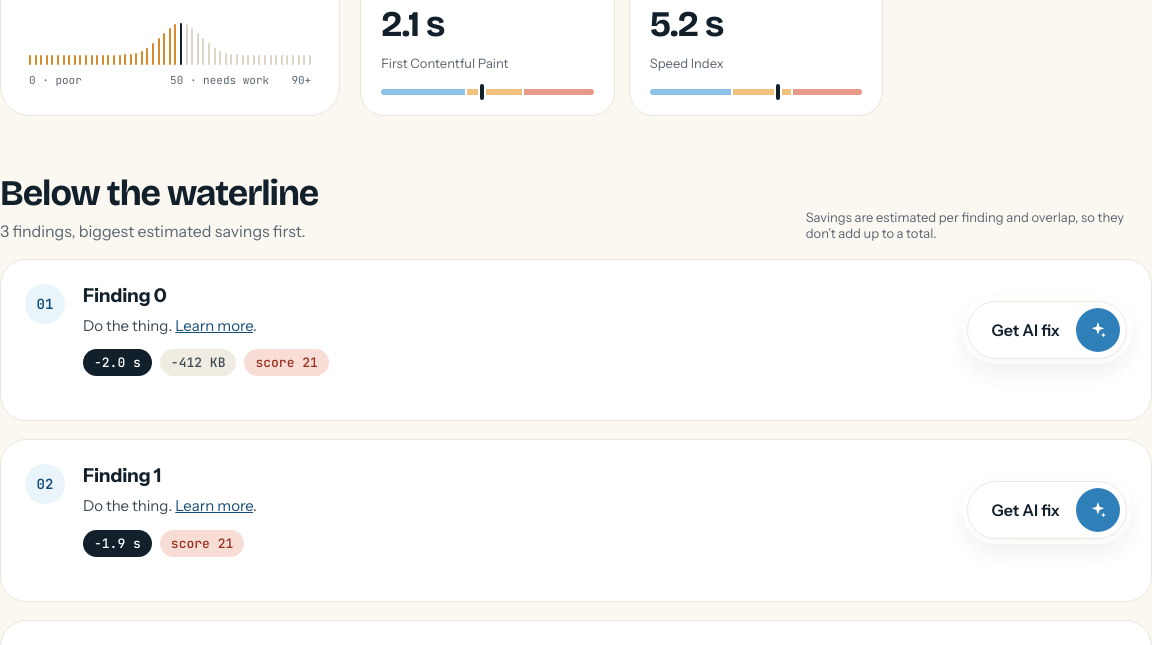
Test case: fix panel polish › shows where the fix goes, with inline code rendered
This screenshot has width=1152, height=645.
(page scrolled)
Click the button "Get AI fix" in the row of "412 KB" at (1047, 330), box [966,301,1127,359]
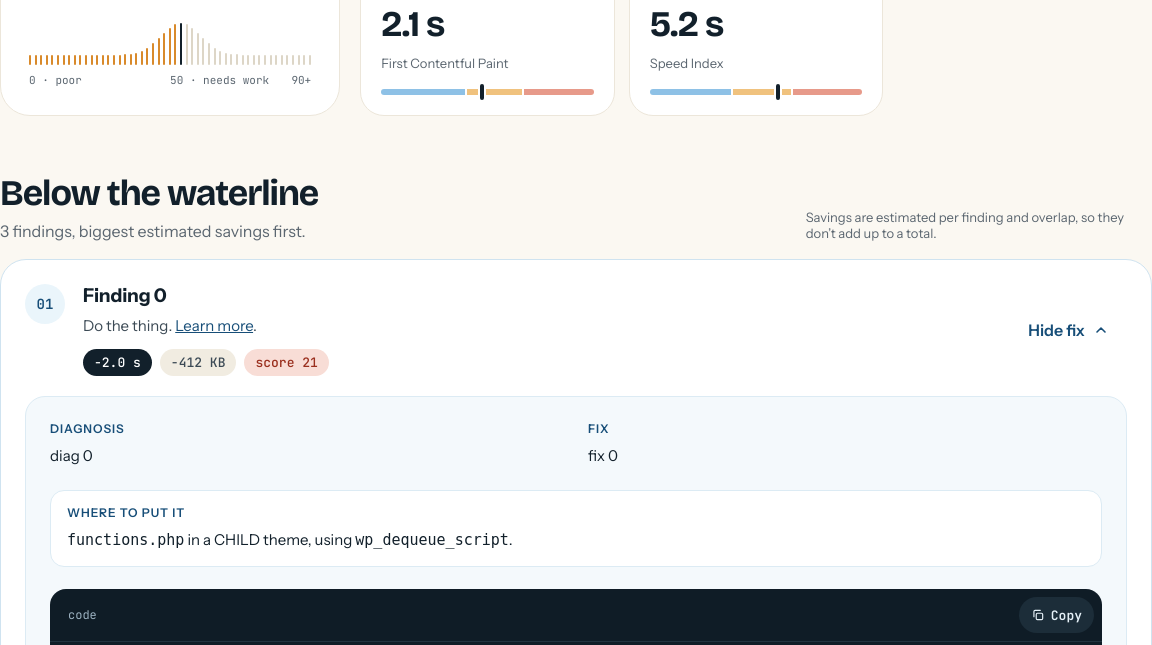
Expected: the text "Where to put it" is shown, [67,505,185,520]
